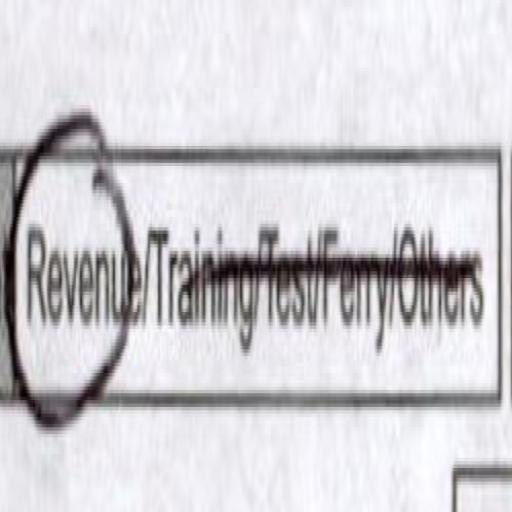check: (16, 98, 141, 448)
